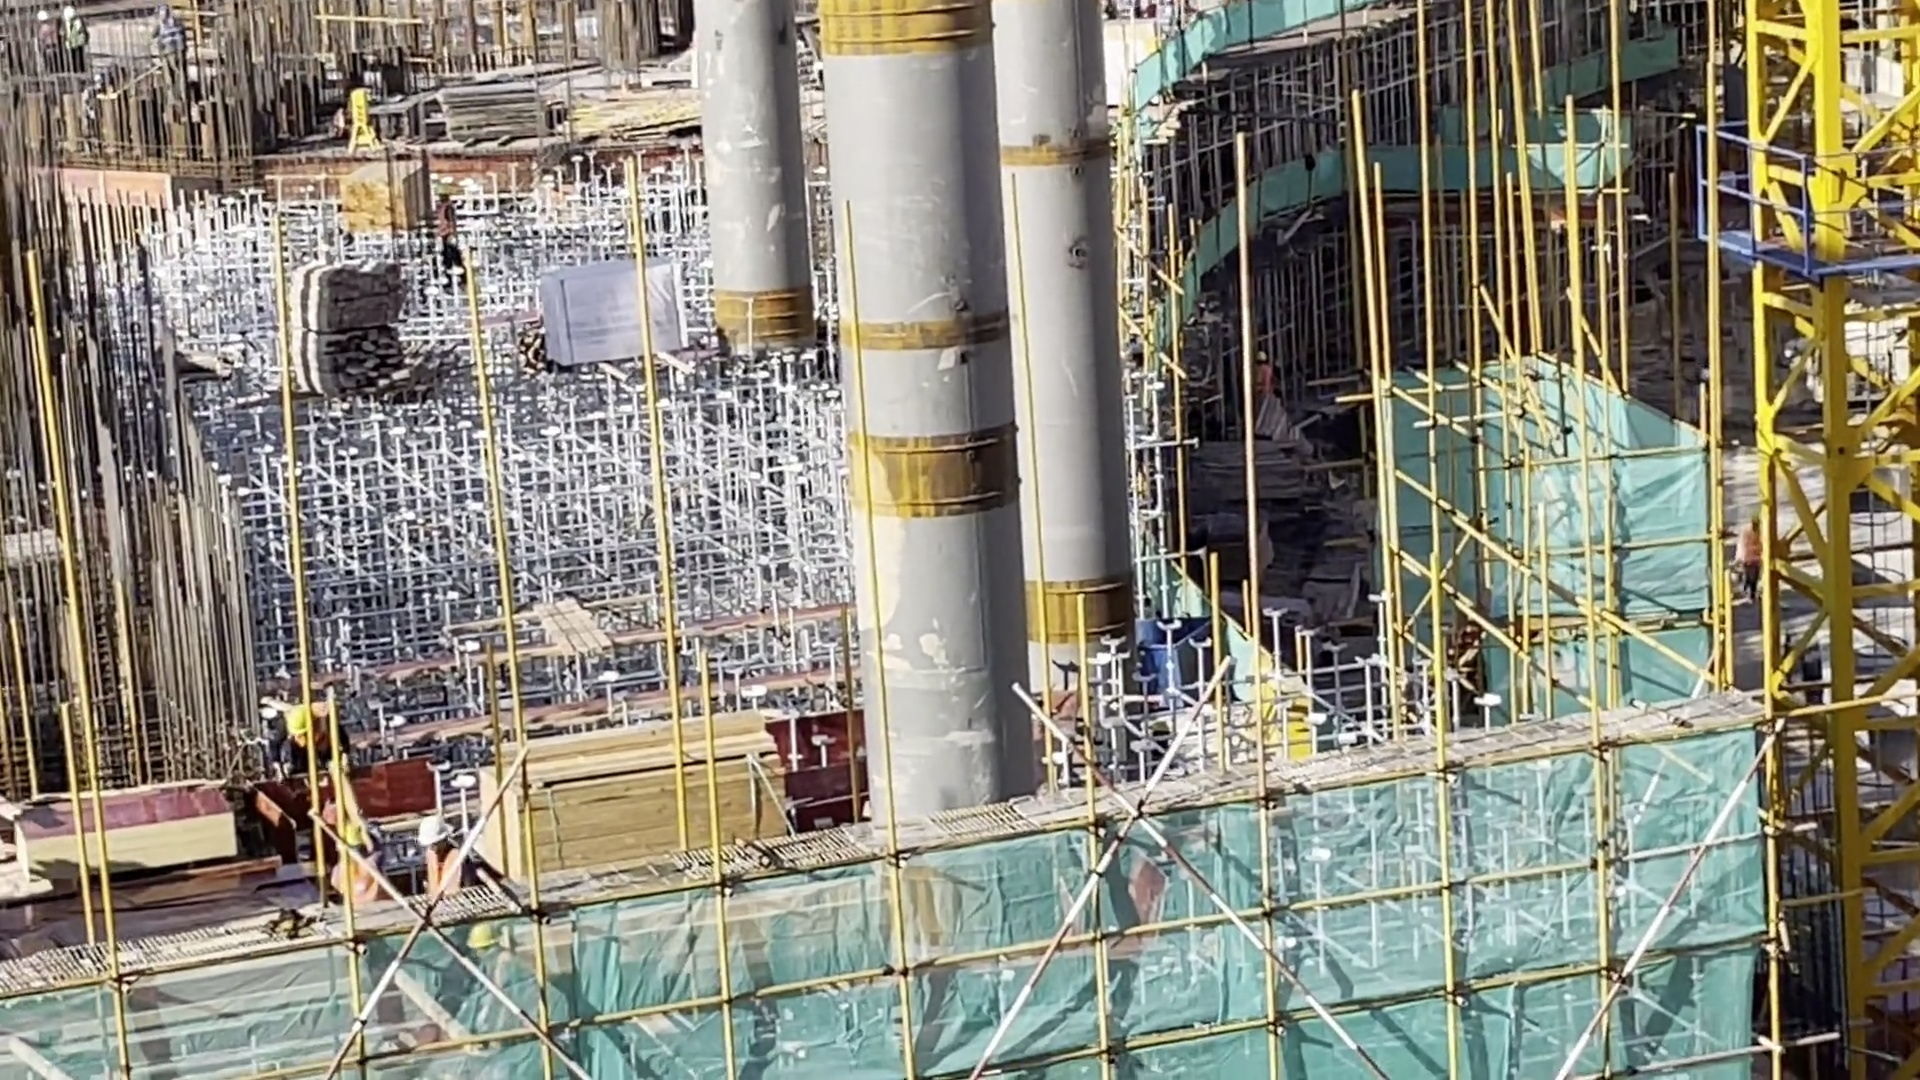helmet: (414, 815, 454, 848), (337, 828, 371, 852)
person: (408, 812, 480, 911), (325, 823, 396, 912)
vest: (423, 849, 463, 894)
